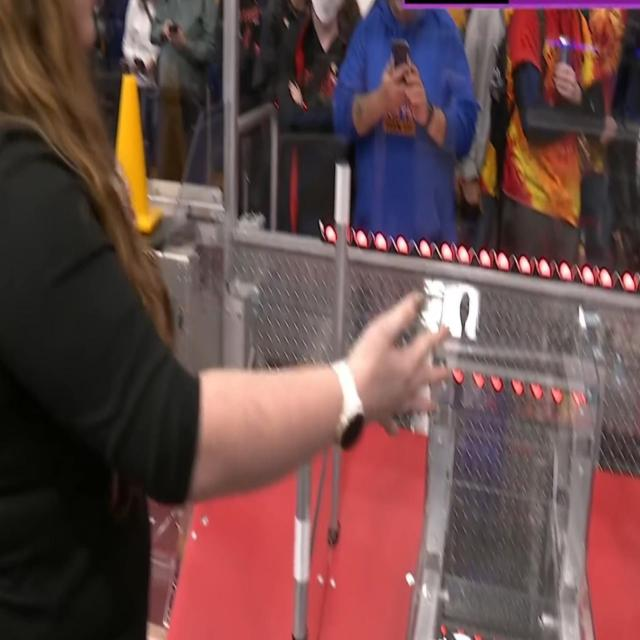frc_cone: (107, 67, 159, 227)
